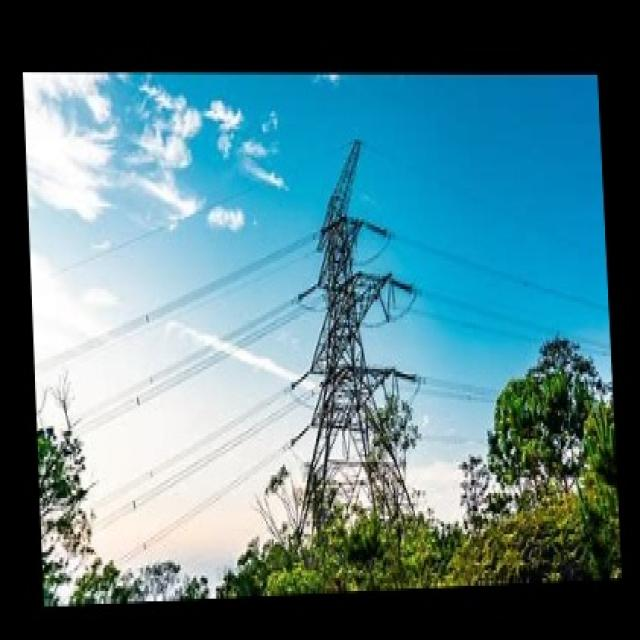utility poles: (301, 330, 427, 576), (484, 305, 596, 511)
